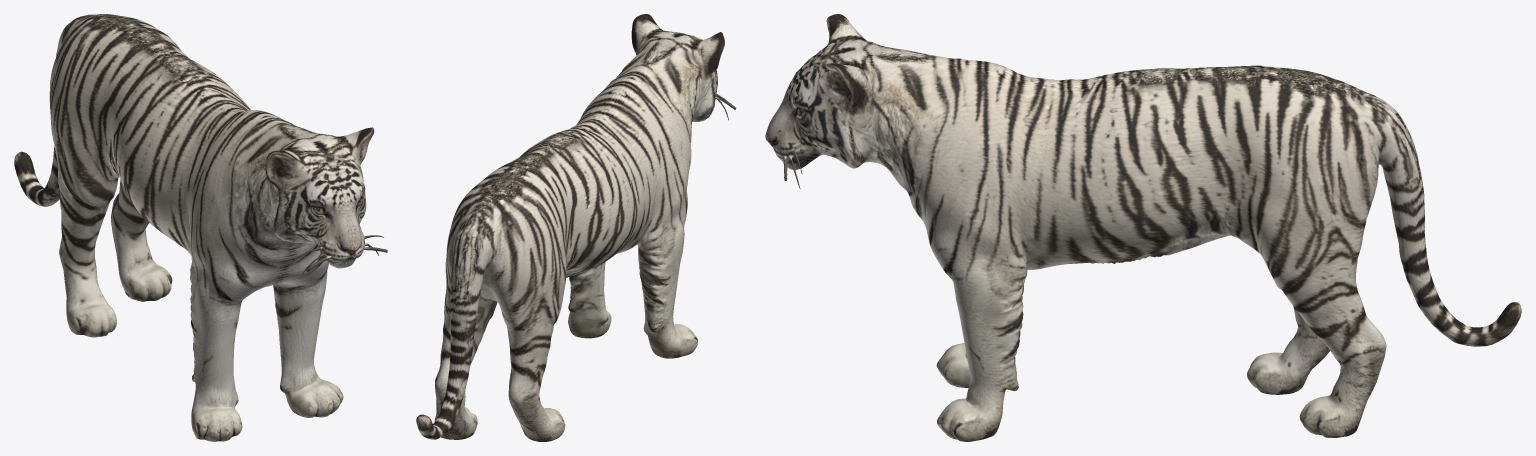
File: tigre-parado.glb
3 views of the same model, side by side, from view 1: azimuth 30°, elevation 25°; view 2: azimuth 150°, elevation 25°; view 3: azimuth 270°, elevation 25° (orthographic). The views are drawn at different scales.
Parts seen in each view (by area): view 1: tripo_node_9923586e-7e2d-430d-b4a9-0e6b396ff9ae; view 2: tripo_node_9923586e-7e2d-430d-b4a9-0e6b396ff9ae; view 3: tripo_node_9923586e-7e2d-430d-b4a9-0e6b396ff9ae.
Boxes of the visible parts, box(x1,y1,x2,y2) form: tripo_node_9923586e-7e2d-430d-b4a9-0e6b396ff9ae: box(14, 14, 387, 441); tripo_node_9923586e-7e2d-430d-b4a9-0e6b396ff9ae: box(416, 14, 736, 441); tripo_node_9923586e-7e2d-430d-b4a9-0e6b396ff9ae: box(765, 14, 1521, 441).
Size of the model in its own units: 0.2515 by 0.531 by 0.9969.
Materials: 1 (1 with a texture image).
